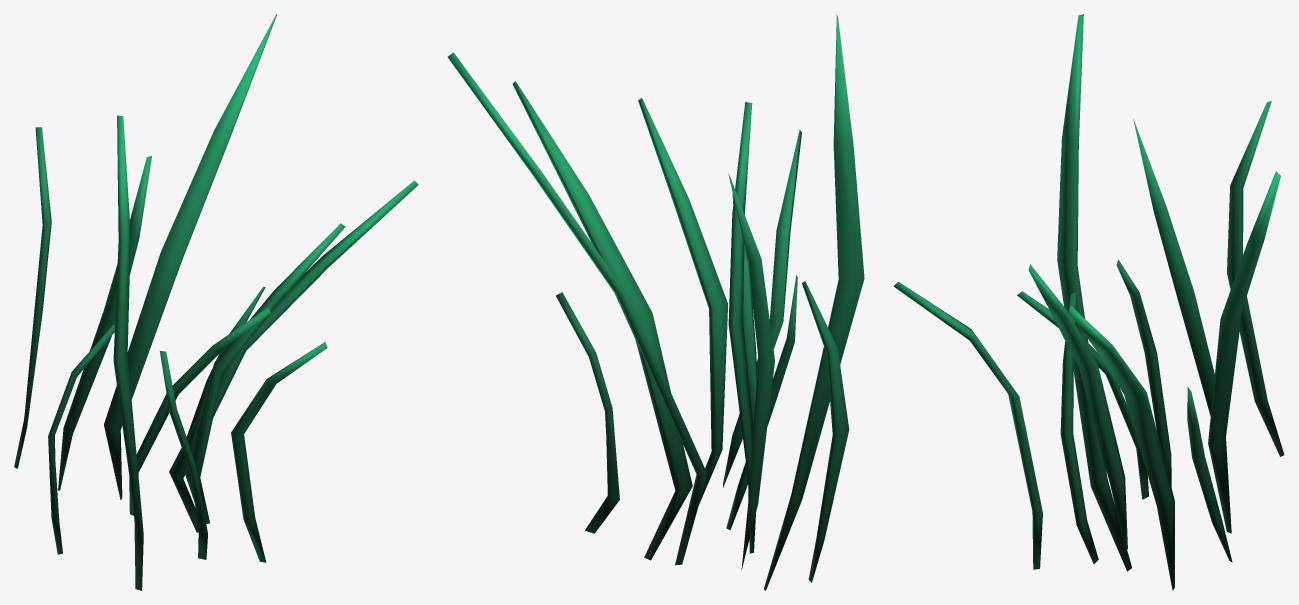
Rendered from grass4.fbx.
3 renders of one model, left to right at view 1: azimuth 30°, elevation 25°; view 2: azimuth 150°, elevation 25°; view 3: azimuth 270°, elevation 25°, orthographic. The views are drawn at different scales.
Parts seen in each view (by area): view 1: grass9; view 2: grass9; view 3: grass9.
Boxes of the visible parts, x1=… form: grass9: x1=14, y1=14, x2=418, y2=590; grass9: x1=447, y1=14, x2=864, y2=590; grass9: x1=893, y1=14, x2=1284, y2=590.
Size of the model in its own units: 103 by 147 by 97.57.
